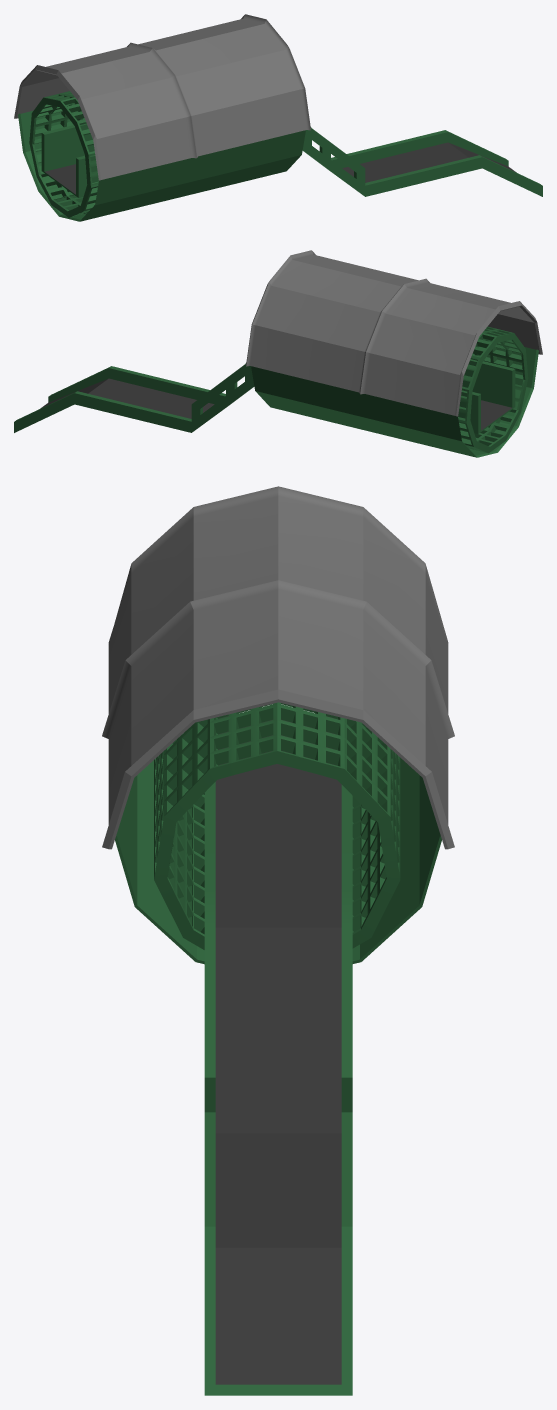
Rendered from convcr.fbx.
The picture shows the model from 3 angles, top to bottom: view 1: azimuth 30°, elevation 25°; view 2: azimuth 150°, elevation 25°; view 3: azimuth 270°, elevation 25°; orthographic projection. The views are drawn at different scales.
Visible parts, largest first — view 1: conveerkrugl; view 2: conveerkrugl; view 3: conveerkrugl.
Boxes of the visible parts, x1,y1,x2,y2 form: conveerkrugl: (14, 14, 542, 221); conveerkrugl: (14, 250, 542, 457); conveerkrugl: (102, 486, 454, 1395).
Bounding box in the file's own units: 210 × 97.32 × 68.57.
3 materials, 3 textured.
